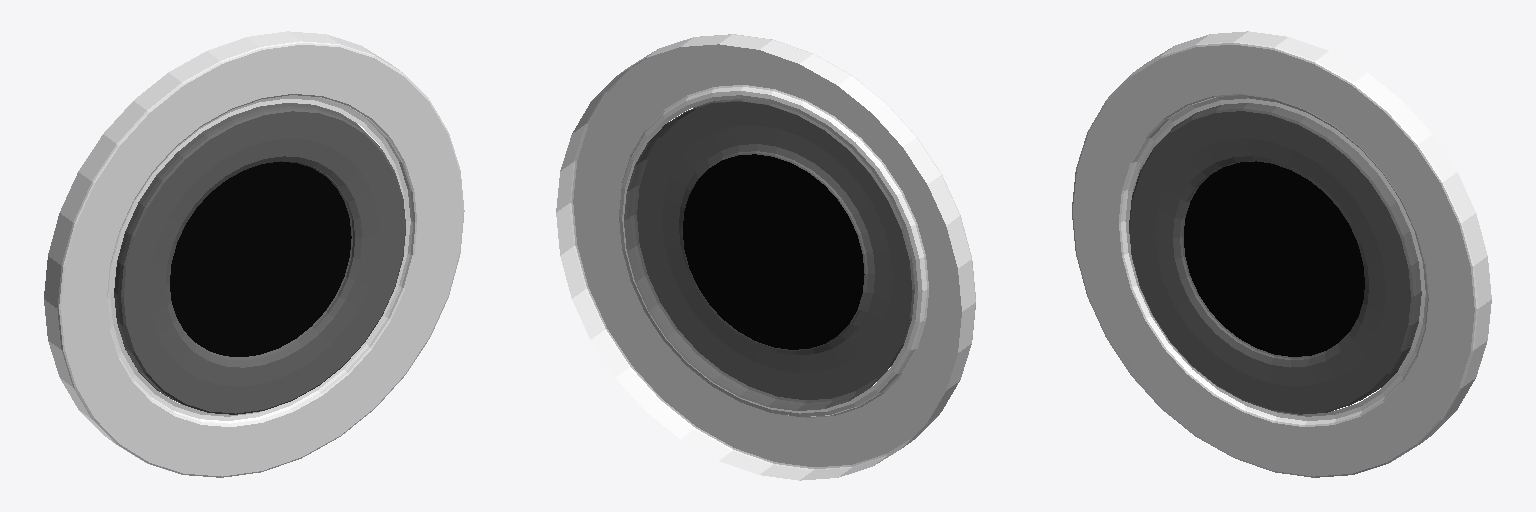
The model's file is gasanschluss.obj.
3 renders of one model, left to right at view 1: azimuth 30°, elevation 25°; view 2: azimuth 150°, elevation 25°; view 3: azimuth 330°, elevation 25°, orthographic.
Parts seen in each view (by area): view 1: Archmodels70_056_075_Mesh.049, Archmodels70_056_067_Mesh.041; view 2: Archmodels70_056_075_Mesh.049, Archmodels70_056_067_Mesh.041; view 3: Archmodels70_056_075_Mesh.049, Archmodels70_056_067_Mesh.041.
Boxes of the visible parts, <box> form: Archmodels70_056_075_Mesh.049: <box>44,31,464,477</box>; Archmodels70_056_067_Mesh.041: <box>114,103,405,414</box>; Archmodels70_056_075_Mesh.049: <box>556,34,975,480</box>; Archmodels70_056_067_Mesh.041: <box>624,99,914,410</box>; Archmodels70_056_075_Mesh.049: <box>1072,31,1491,477</box>; Archmodels70_056_067_Mesh.041: <box>1129,103,1421,414</box>.
Size of the model in its own units: 24.55 by 24.55 by 1.9.